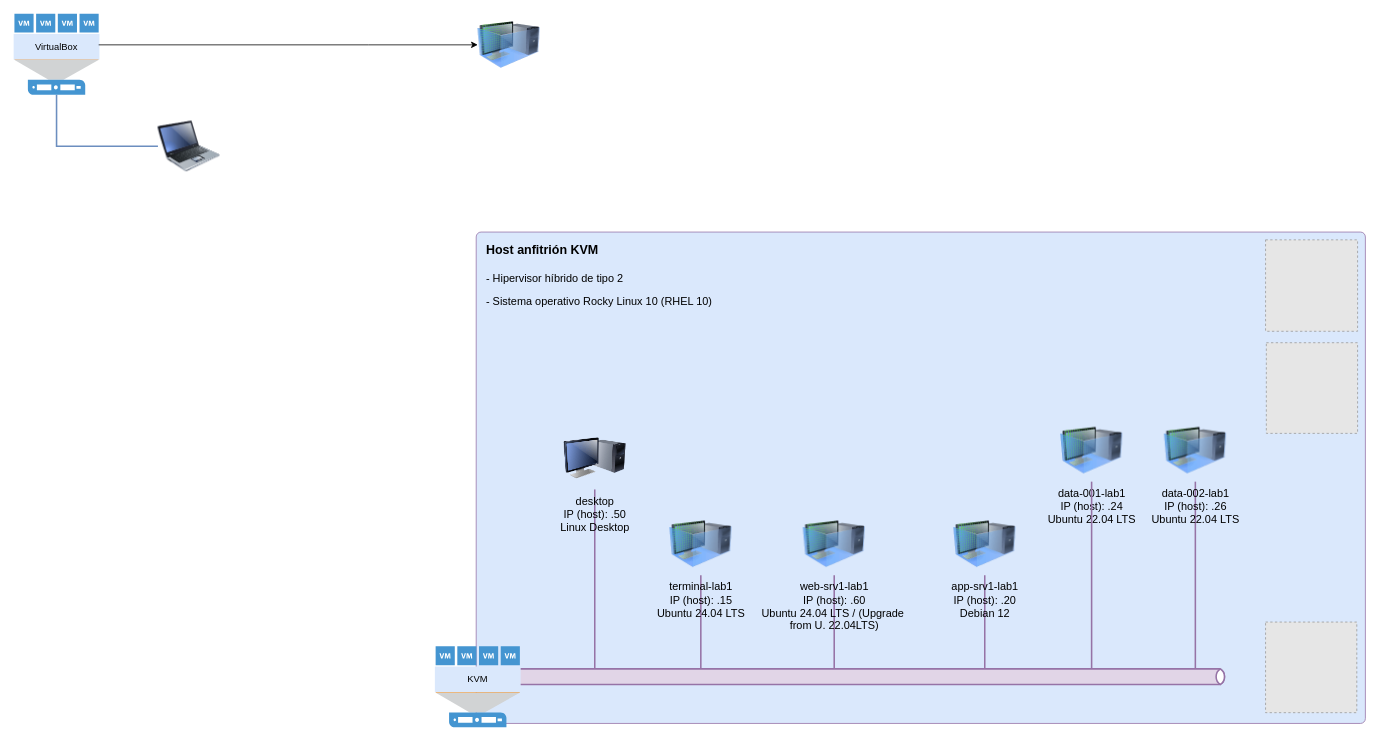
Some shapes in this 1379 by 740 pixel diagram are drawn without their labels. Grey dashed boxes stand in for pictures. Here are the shapes that lost their labels. From the top down, the centre of each, then its label:
At (x=508, y=44): "web-srv1-study".
At (x=189, y=146): "victus".
At (x=855, y=676): "KVM > bridge > br0 (LAN IPv4 Private)".
